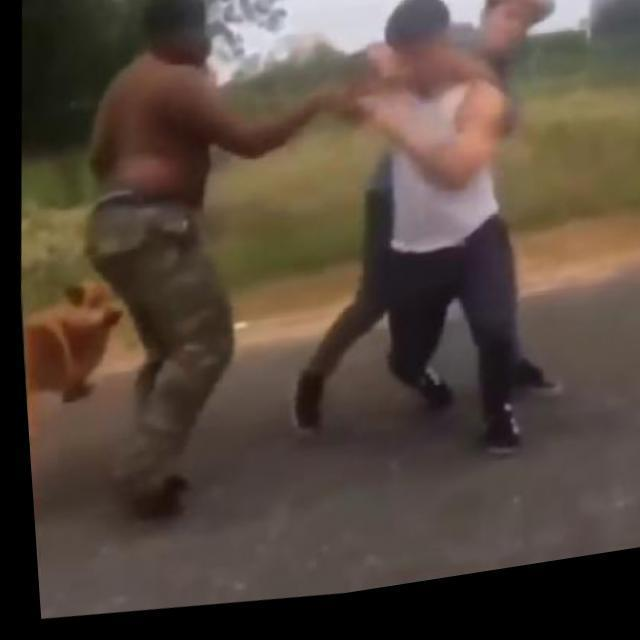fight: (302, 0, 604, 500)
